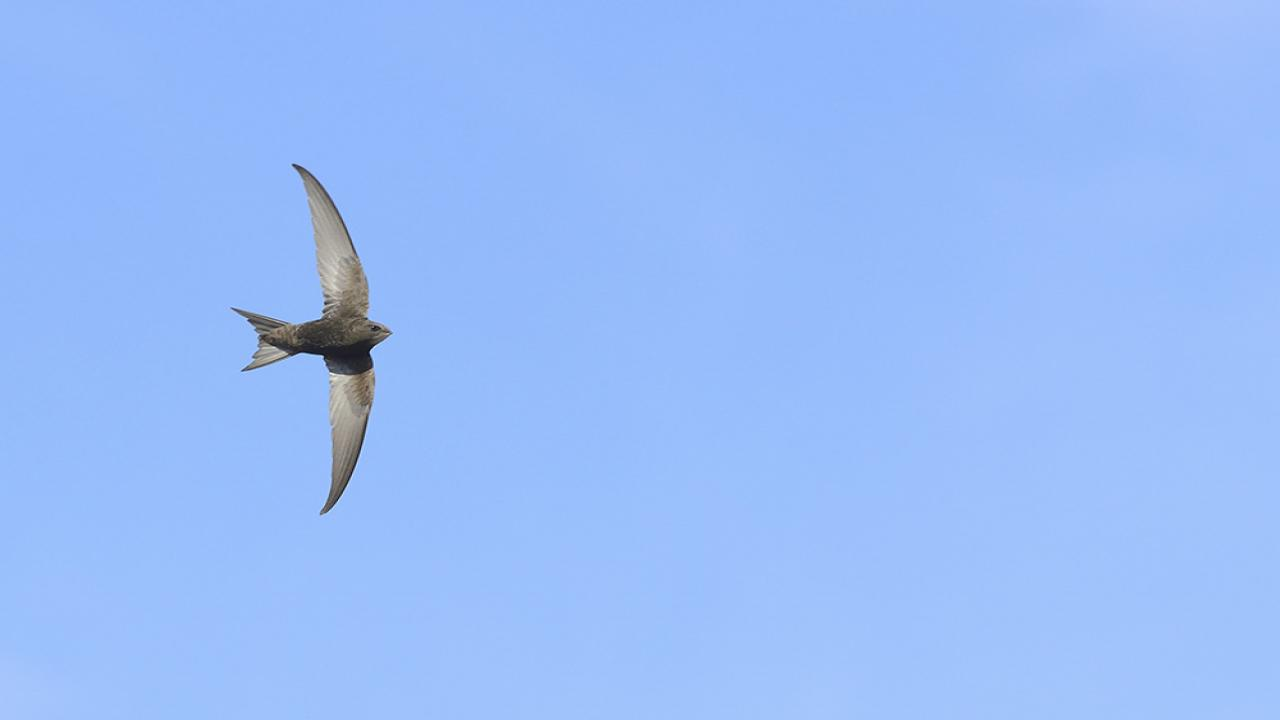Bird: (216, 152, 415, 527)
